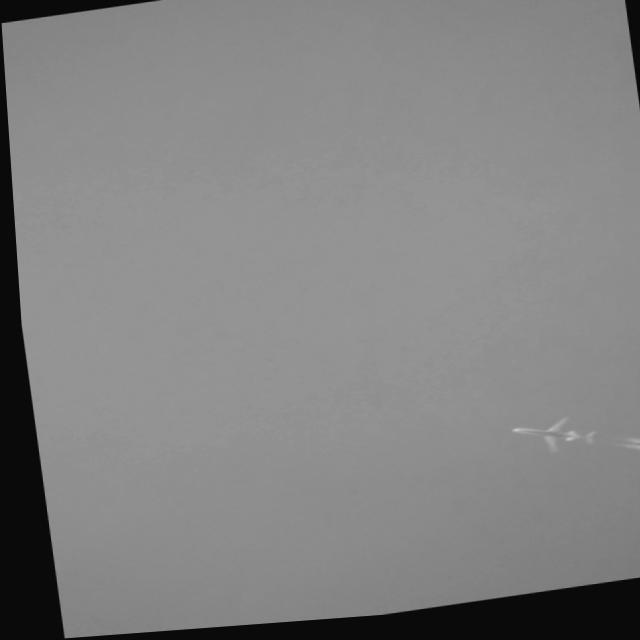aeroplane: (491, 413, 595, 470)
